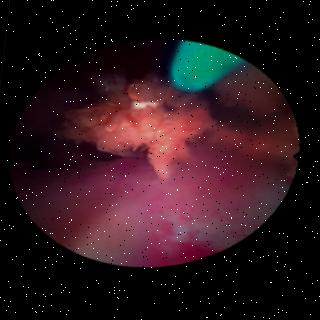fiber: (171, 42, 237, 90)
stone: (58, 73, 298, 179), (214, 69, 284, 118)
tissue: (17, 45, 289, 263)
